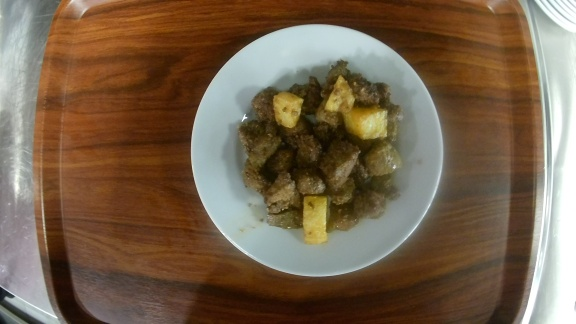arnavutcigeri: (189, 23, 444, 279)
